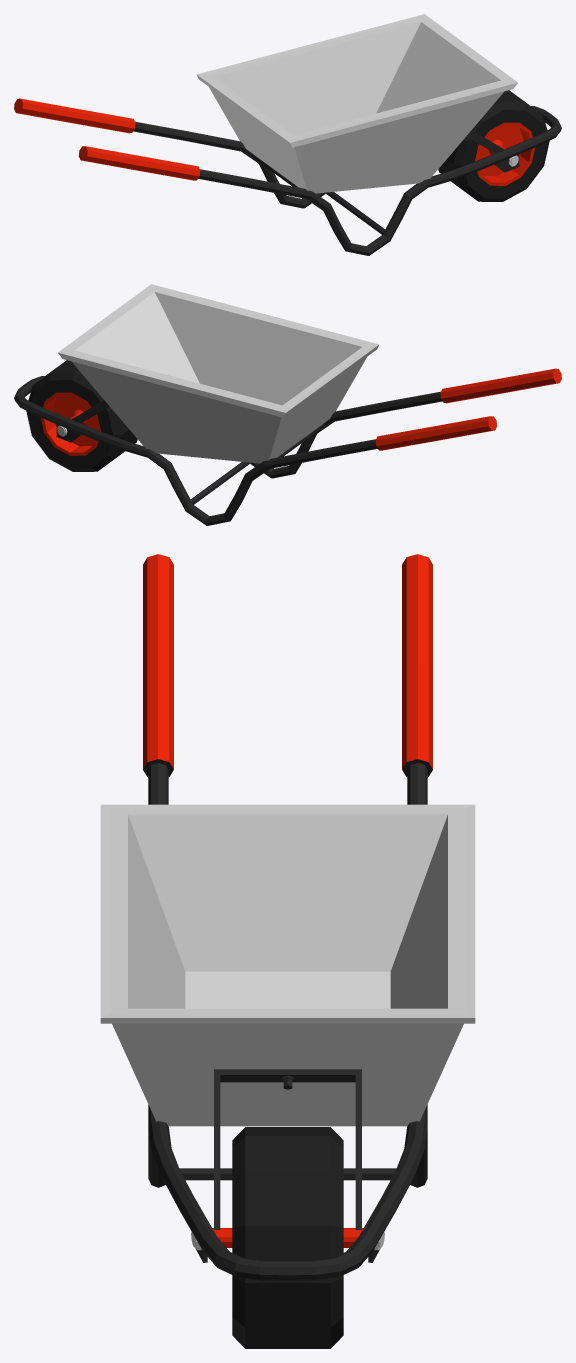
File: Handcart.fbx
3 views of the same model, one above another, from view 1: azimuth 30°, elevation 25°; view 2: azimuth 150°, elevation 25°; view 3: azimuth 270°, elevation 25° (orthographic). The views are drawn at different scales.
Parts seen in each view (by area): view 1: BézierCurve.001; view 2: BézierCurve.001; view 3: BézierCurve.001.
Boxes of the visible parts, x1=… form: BézierCurve.001: x1=14, y1=14, x2=561, y2=255; BézierCurve.001: x1=14, y1=284, x2=561, y2=525; BézierCurve.001: x1=100, y1=554, x2=475, y2=1348.
Size of the model in its own units: 259 by 87.7 by 83.2.
